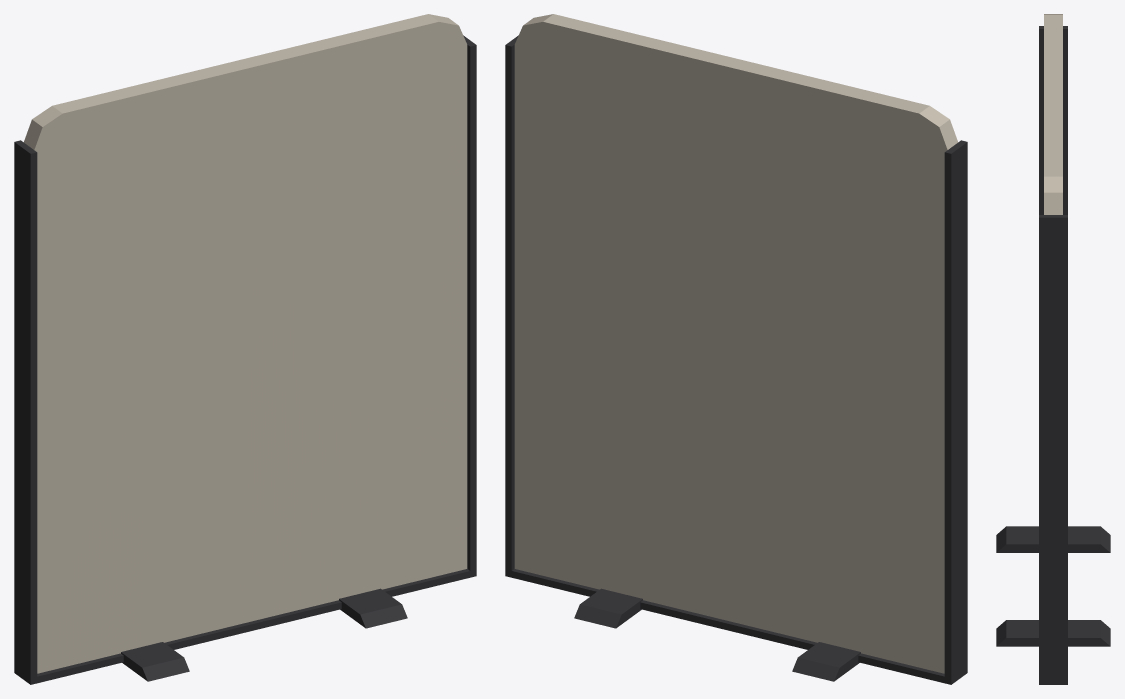
Rendered from 08_divider_black_high_half.glb.
3 renders of one model, left to right at view 1: azimuth 30°, elevation 25°; view 2: azimuth 150°, elevation 25°; view 3: azimuth 270°, elevation 25°, orthographic. The views are drawn at different scales.
Parts seen in each view (by area): view 1: PartitionDestructible_Part_001, Panel, Panel_fragment_3, Panel_fragment_2, Attachment_02_fragment_3, Panel_fragment_1, Attachment_02, Attachment_01_fragment_3, Attachment_01, Attachment_03; view 2: PartitionDestructible_Part_001, Panel, Panel_fragment_2, Attachment_02_fragment_3, Panel_fragment_1, Panel_fragment_3, Attachment_02, Attachment_03_fragment_1, Attachment_01_fragment_3; view 3: PartitionDestructible_Part_001, Attachment_02_fragment_3, Attachment_03, Attachment_01, Attachment_01_fragment_3, Attachment_03_fragment_1, Attachment_02.
Boxes of the visible parts, box(x1,y1,x2,y2) form: PartitionDestructible_Part_001: box(14, 14, 476, 681); Panel: box(37, 79, 249, 673); Panel_fragment_3: box(32, 23, 467, 259); Panel_fragment_2: box(37, 214, 467, 497); Attachment_02_fragment_3: box(14, 45, 476, 674); Panel_fragment_1: box(94, 451, 467, 642); Attachment_02: box(14, 35, 472, 684); Attachment_01_fragment_3: box(122, 652, 187, 681); Attachment_01: box(121, 642, 189, 673); Attachment_03: box(345, 588, 406, 617); PartitionDestructible_Part_001: box(505, 14, 967, 684); Panel: box(732, 76, 944, 673); Panel_fragment_2: box(514, 214, 944, 483); Attachment_02_fragment_3: box(505, 45, 967, 684); Panel_fragment_1: box(514, 451, 889, 637); Panel_fragment_3: box(514, 22, 956, 255); Attachment_02: box(505, 35, 727, 626); Attachment_03_fragment_1: box(575, 588, 635, 626); Attachment_01_fragment_3: box(793, 646, 860, 673); PartitionDestructible_Part_001: box(996, 14, 1110, 684); Attachment_02_fragment_3: box(1039, 30, 1067, 684); Attachment_03: box(996, 620, 1110, 646); Attachment_01: box(996, 526, 1109, 552); Attachment_01_fragment_3: box(996, 526, 1110, 552); Attachment_03_fragment_1: box(996, 620, 1110, 646); Attachment_02: box(1039, 41, 1043, 214).
Bounding box in the file's own units: 2.07 × 2.5 × 0.523.
